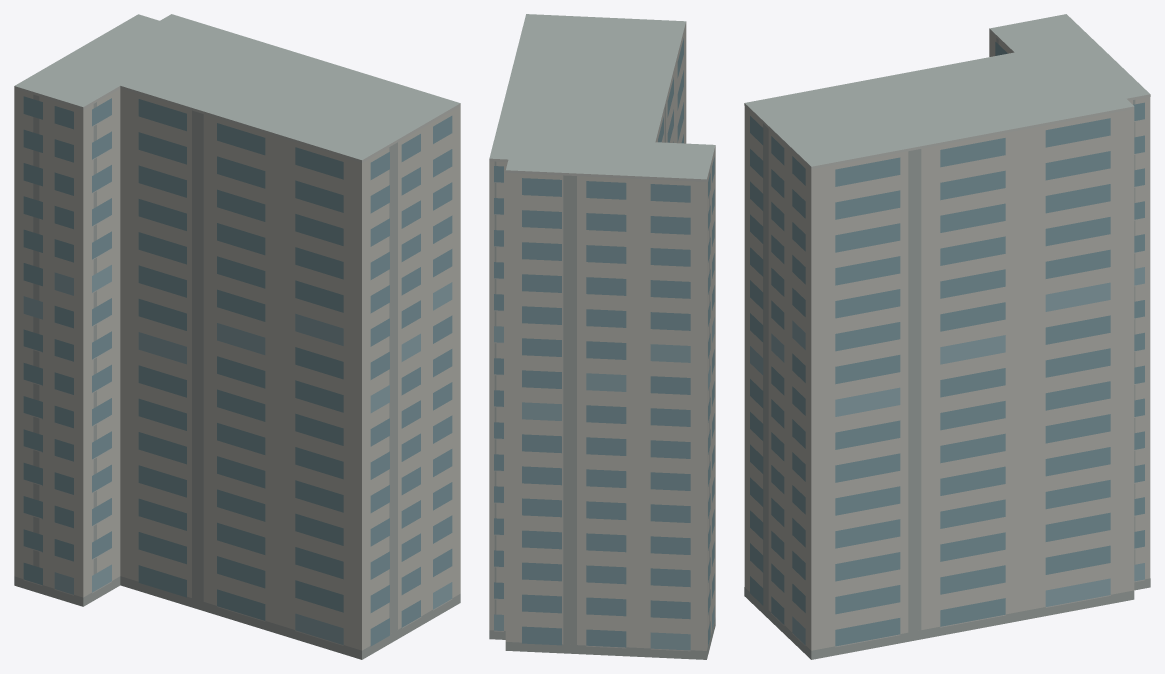
The model's file is residential-7352f636-edb9-4afb-bb62-cdcf630b2eb8.glb.
3 renders of one model, left to right at view 1: azimuth 30°, elevation 25°; view 2: azimuth 150°, elevation 25°; view 3: azimuth 270°, elevation 25°, orthographic. The views are drawn at different scales.
Visible parts, largest first — view 1: residential-7352f636-edb9-4afb-bb62-cdcf630b2eb8.tmp; view 2: residential-7352f636-edb9-4afb-bb62-cdcf630b2eb8.tmp; view 3: residential-7352f636-edb9-4afb-bb62-cdcf630b2eb8.tmp.
Part boxes in pixels (x1,y1,x2,y2): residential-7352f636-edb9-4afb-bb62-cdcf630b2eb8.tmp: (14,14,460,659); residential-7352f636-edb9-4afb-bb62-cdcf630b2eb8.tmp: (489,14,715,659); residential-7352f636-edb9-4afb-bb62-cdcf630b2eb8.tmp: (744,14,1150,659).
Bounding box in the file's own units: 30.4 × 45.75 × 34.14.
